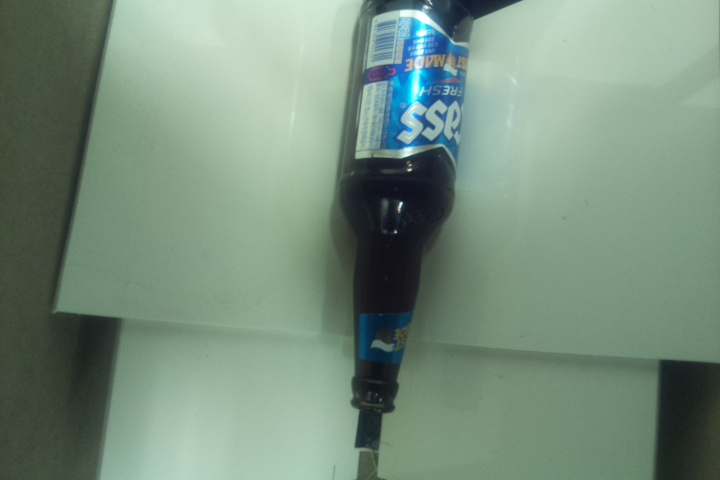makju: (325, 1, 473, 414)
